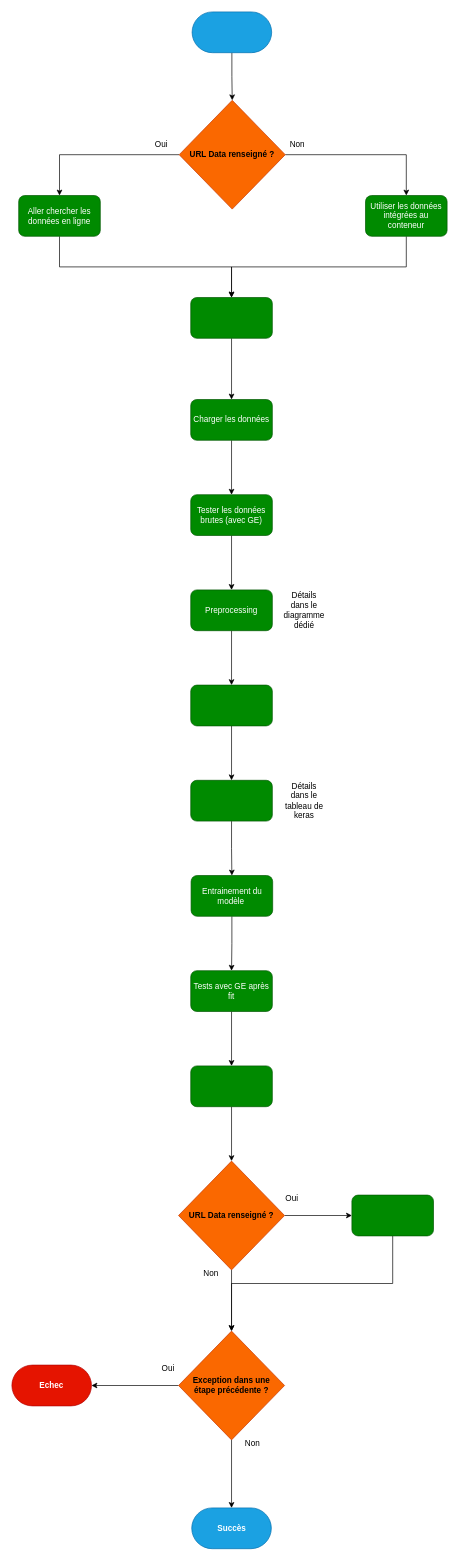
The diagram is 459 pixels wide and 1561 high, and some of its shapes have lost their labels. The shapes that lost their labels are listed below. From the top down, each one's box as (x1, y1, x2, y2) in pixels, then its label:
(191, 11, 272, 53): Début flow
(190, 297, 272, 338): Vérifier si le fichier existe ou a bien été téléchargé
(190, 684, 272, 726): Train/Test Split
(190, 780, 272, 821): Création du modèle
(190, 1065, 272, 1107): Enregistrement du modèle dans mlflow (+informations)
(351, 1194, 434, 1236): Supprimer le fichier temporaire téléchargé
